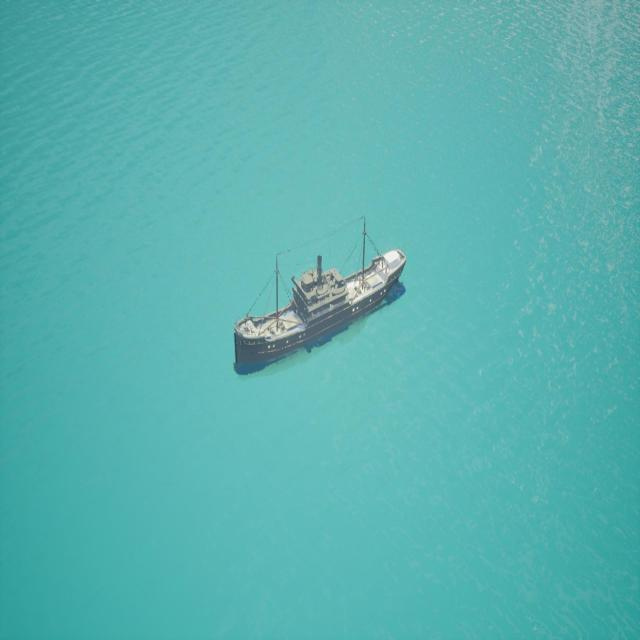fishing ship: (233, 224, 407, 379)
